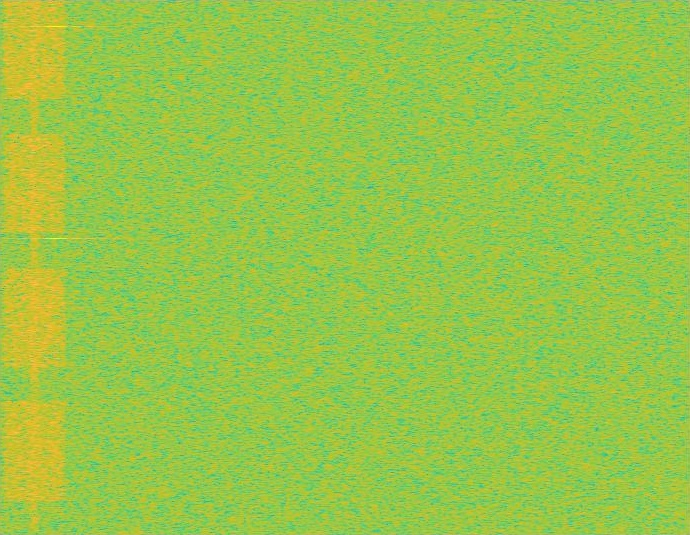5G: (0, 0, 69, 534)
DSSS: (30, 0, 39, 534)
Radar: (49, 0, 63, 534)
